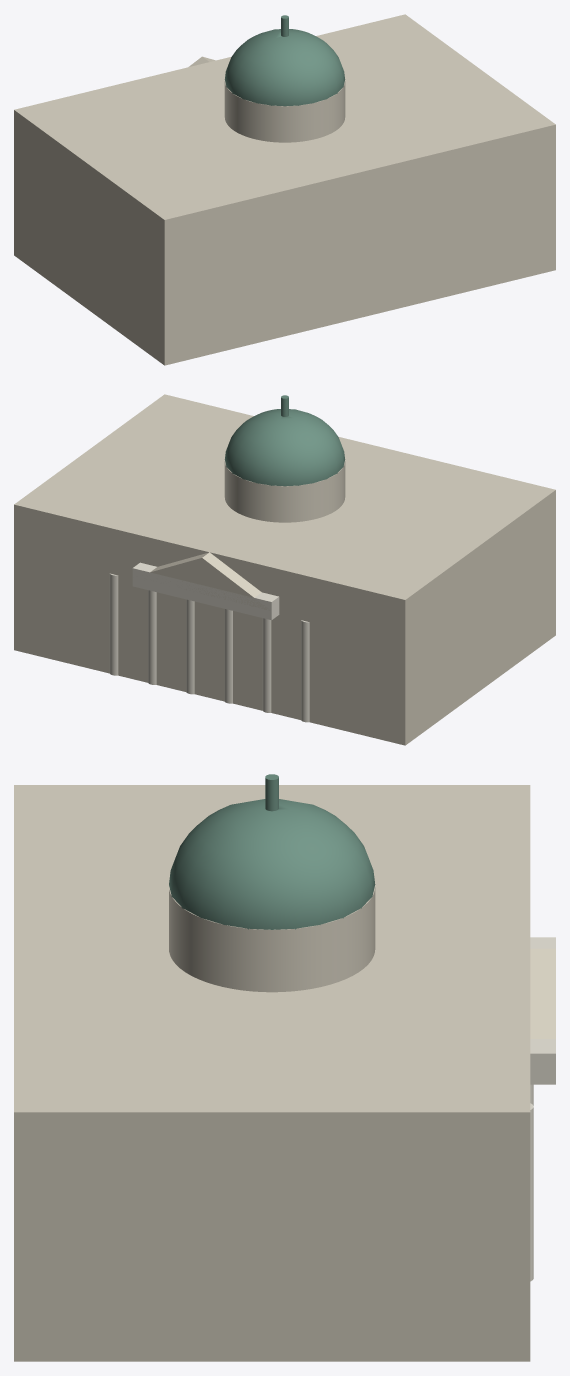
Rendered from d-us-03-collegiate-dome.glb.
The picture shows the model from 3 angles, top to bottom: view 1: azimuth 30°, elevation 25°; view 2: azimuth 150°, elevation 25°; view 3: azimuth 270°, elevation 25°; orthographic projection. The views are drawn at different scales.
Parts seen in each view (by area): view 1: part0, part10, part9; view 2: part0, part10, part9, part7, part8, part6, part2, part1, part4, part3, part5; view 3: part0, part10, part9, part8, part7, part6.
Boxes of the visible parts, x1=… form: part0: x1=14, y1=14, x2=555, y2=365; part10: x1=224, y1=29, x2=345, y2=106; part9: x1=224, y1=80, x2=345, y2=142; part0: x1=14, y1=394, x2=555, y2=745; part10: x1=224, y1=409, x2=345, y2=486; part9: x1=224, y1=460, x2=345, y2=522; part7: x1=132, y1=562, x2=279, y2=620; part8: x1=150, y1=552, x2=269, y2=610; part6: x1=109, y1=573, x2=118, y2=675; part2: x1=262, y1=618, x2=271, y2=712; part1: x1=301, y1=620, x2=309, y2=722; part4: x1=186, y1=599, x2=194, y2=694; part3: x1=224, y1=609, x2=232, y2=703; part5: x1=148, y1=590, x2=156, y2=684; part0: x1=14, y1=785, x2=530, y2=1361; part10: x1=169, y1=799, x2=375, y2=929; part9: x1=169, y1=885, x2=375, y2=992; part8: x1=530, y1=948, x2=555, y2=1038; part7: x1=530, y1=937, x2=555, y2=1084; part6: x1=530, y1=1103, x2=533, y2=1281.
Size of the model in its own units: 45000 by 27000 by 31500.
